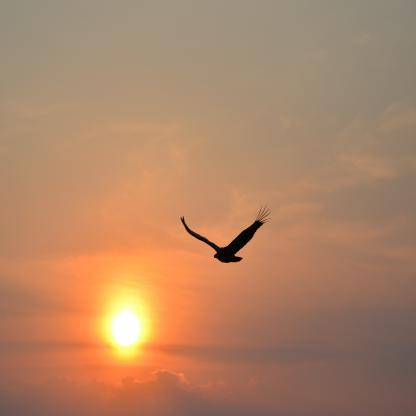bird: (182, 217, 258, 266)
